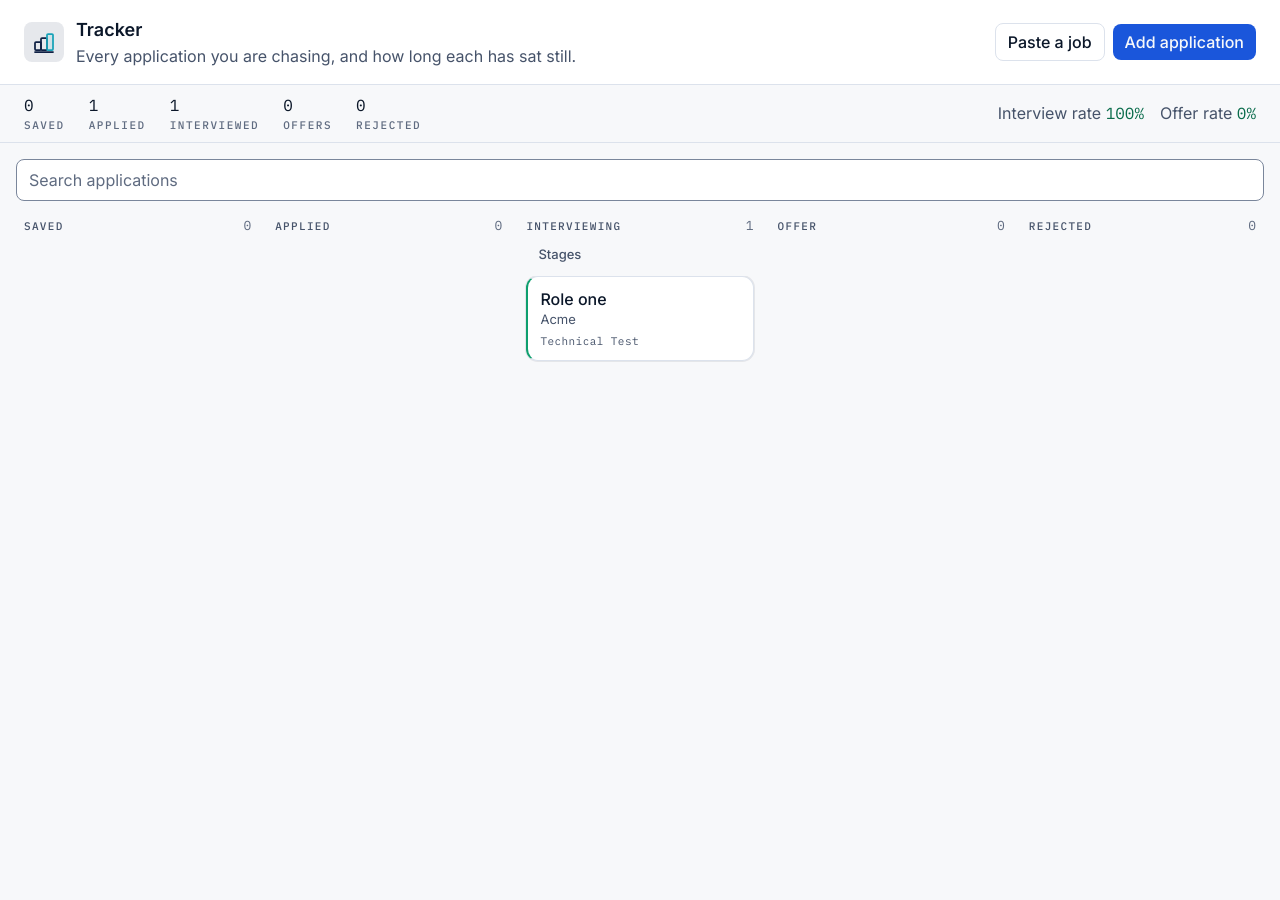
D1: removing a stage that cards use asks first › Escape cancels the question without closing the pane
The image size is (1280, 900).
Expected: the element with test id "tracker-column-interviewing" is shown, [518,208,762,369]
Click the button with test id "tracker-edit-substages": (560, 256) [526,240,593,270]
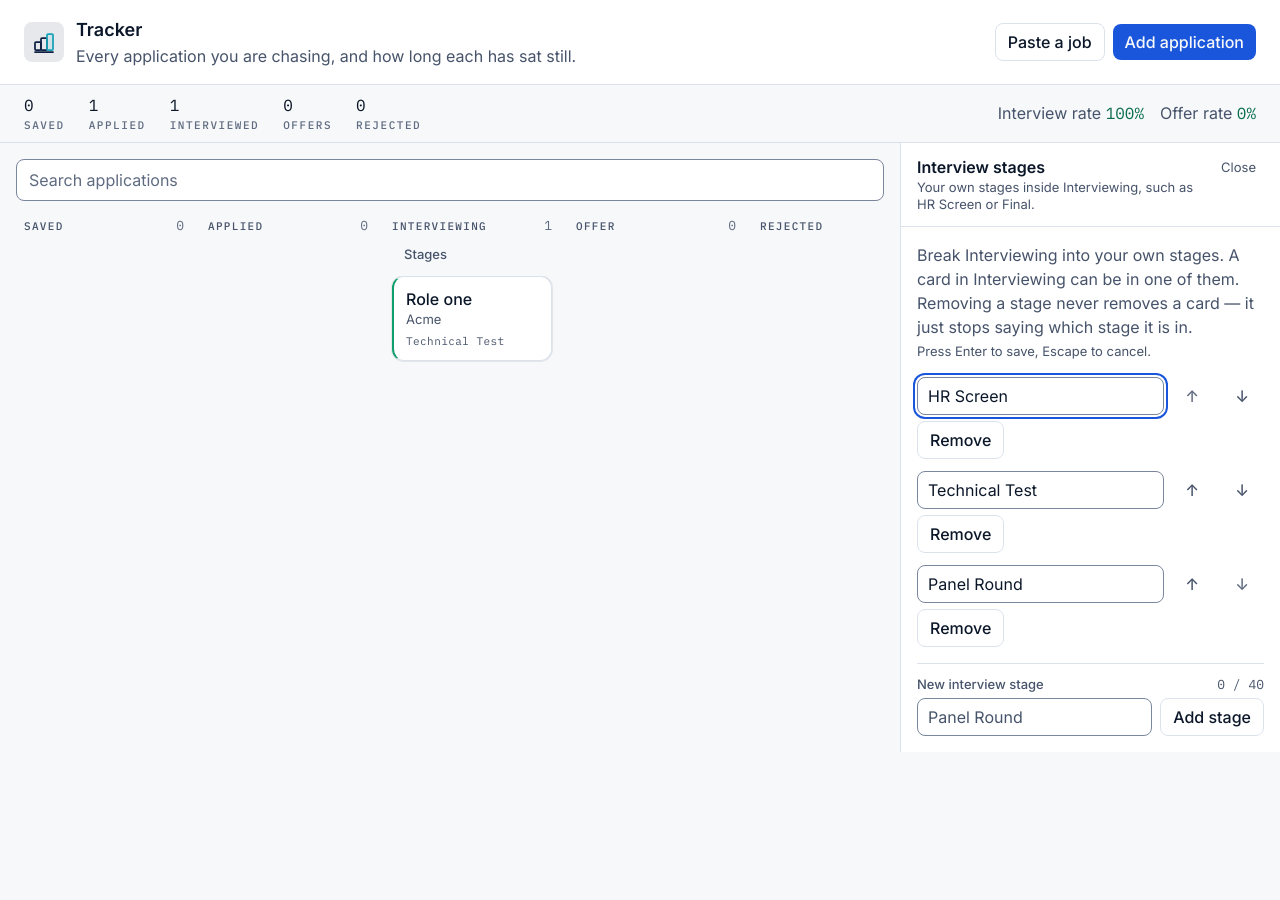
Click the button with aria-label "Remove Technical Test": (961, 534) [917,516,1004,554]
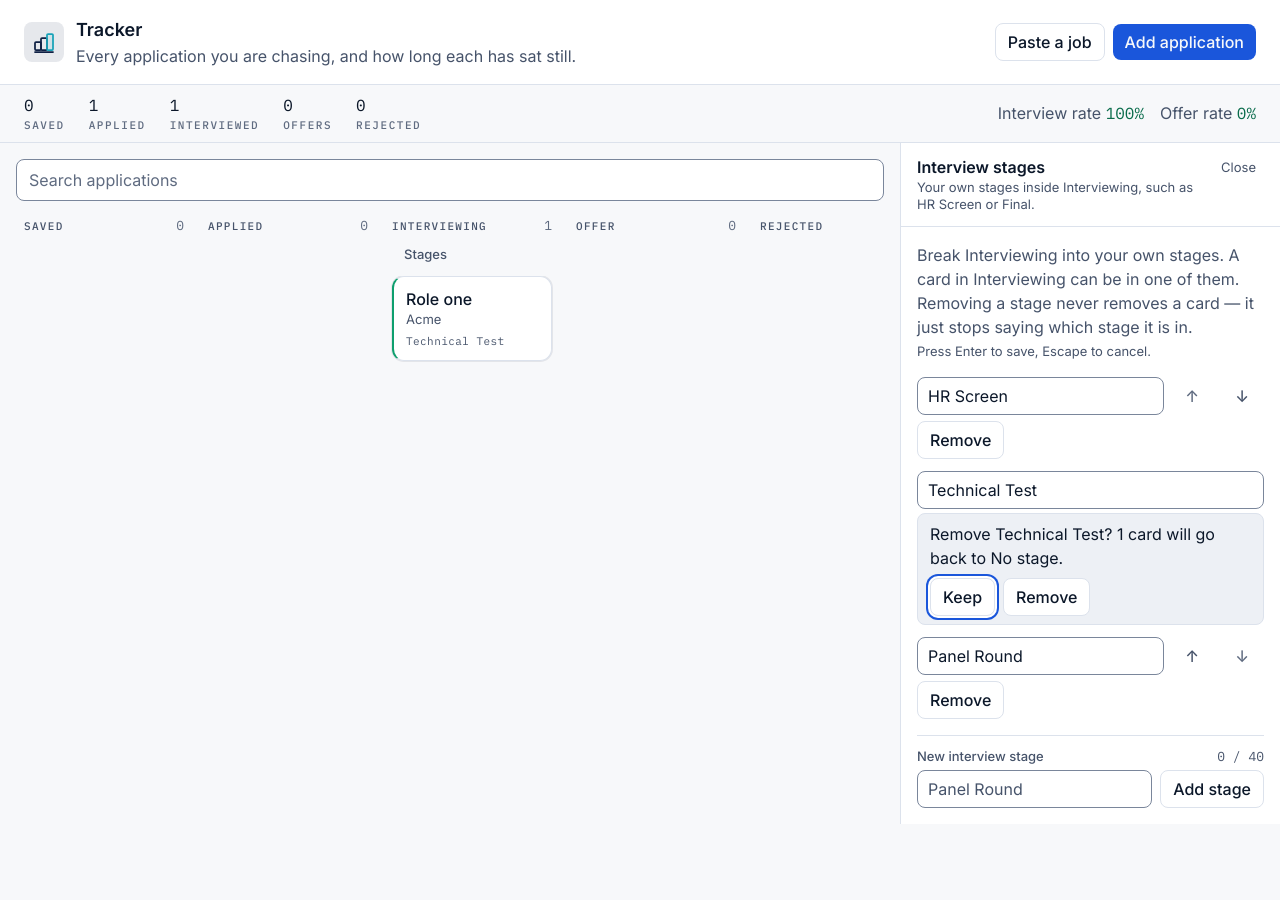
Press Escape
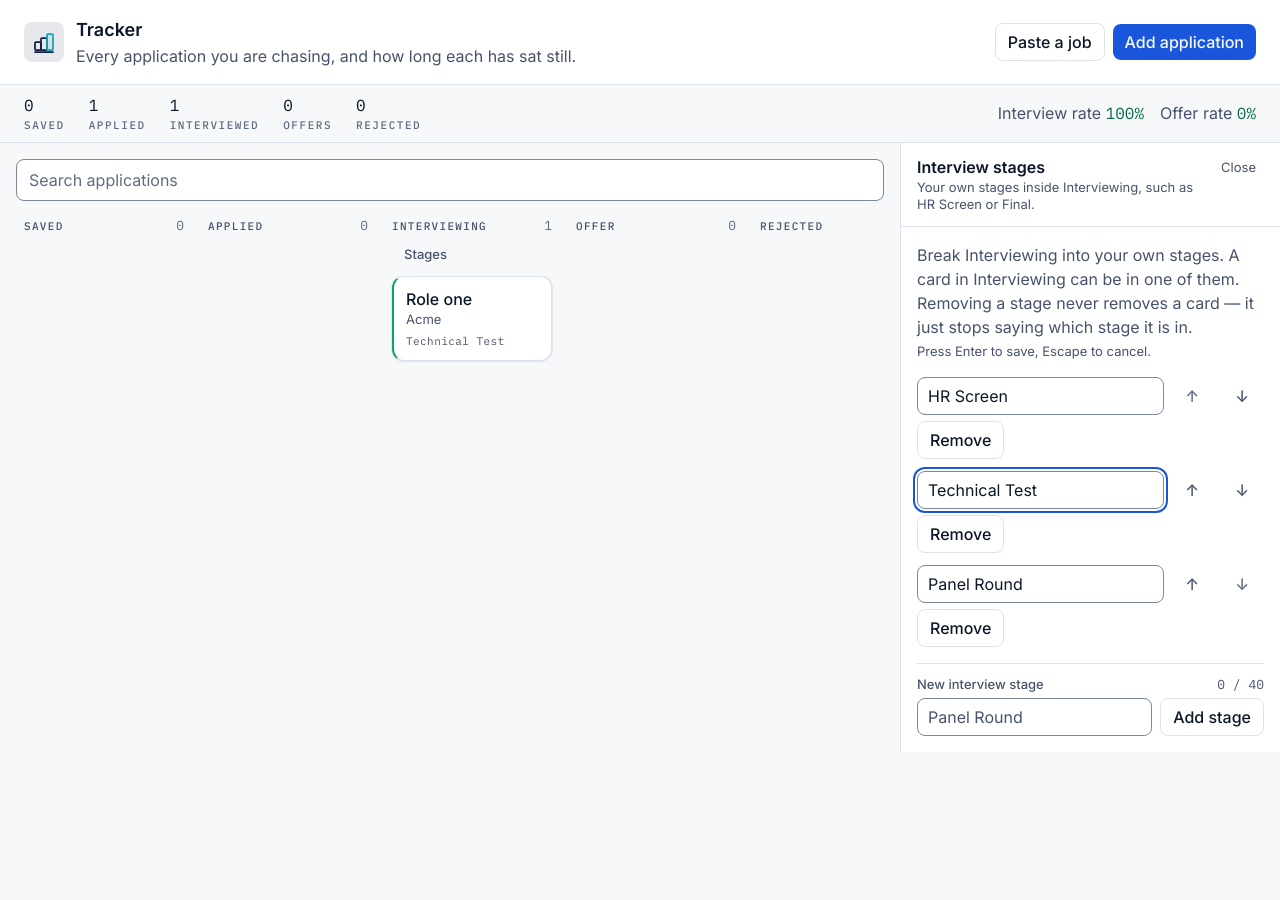
Expected: the element with test id "substage-editor" is shown, [917,244,1264,736]
Expected: the element with test id "substage-confirm" is gone
